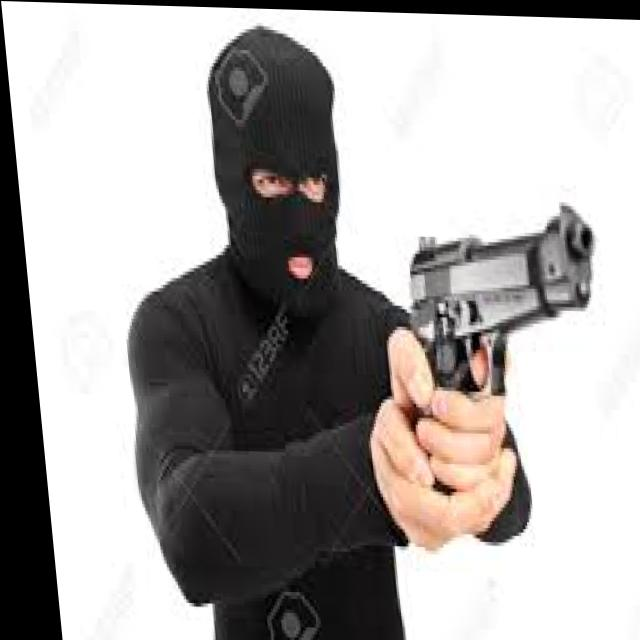handgun: (364, 179, 603, 485)
